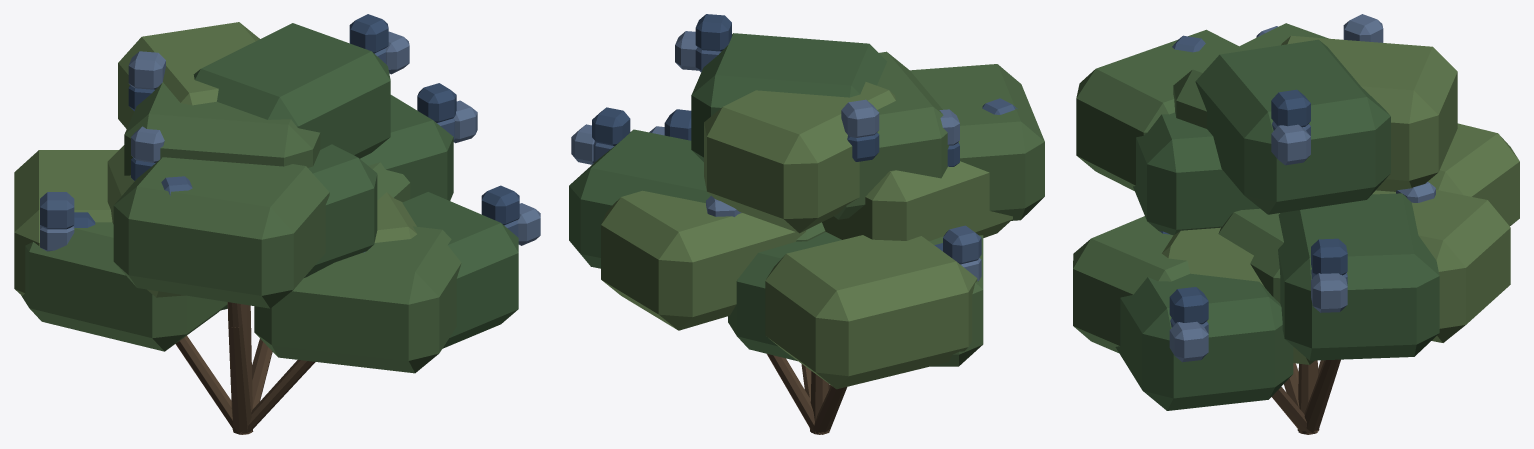
File: blueberry_summer.glb
The picture shows the model from 3 angles, left to right: view 1: azimuth 30°, elevation 25°; view 2: azimuth 150°, elevation 25°; view 3: azimuth 270°, elevation 25°; orthographic projection. The views are drawn at different scales.
Visible parts, largest first — view 1: blueberry_summer; view 2: blueberry_summer; view 3: blueberry_summer.
Part boxes in pixels (box(x1,y1,x2,y2)): blueberry_summer: box(14, 14, 540, 434); blueberry_summer: box(569, 14, 1044, 434); blueberry_summer: box(1073, 14, 1519, 434).
Size of the model in its own units: 1.87 by 1.61 by 1.65.
